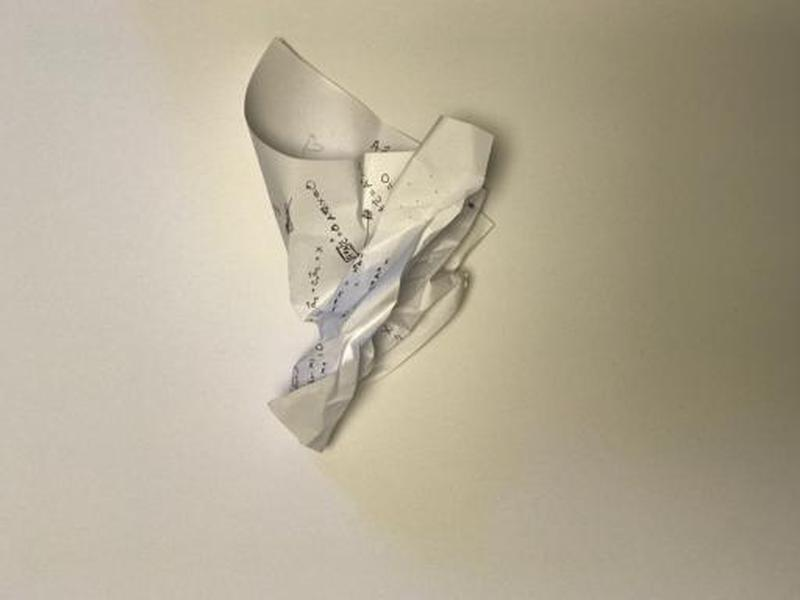paper: (232, 34, 503, 456)
